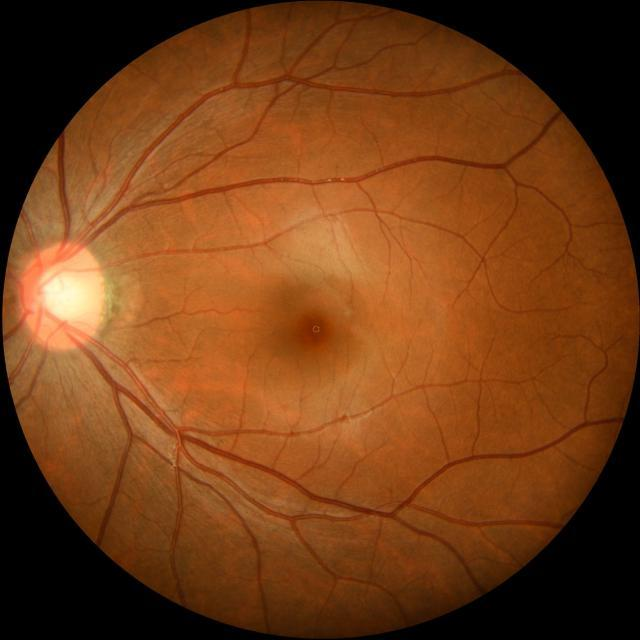OC: (40, 263, 91, 321)
OD: (18, 242, 108, 350)
